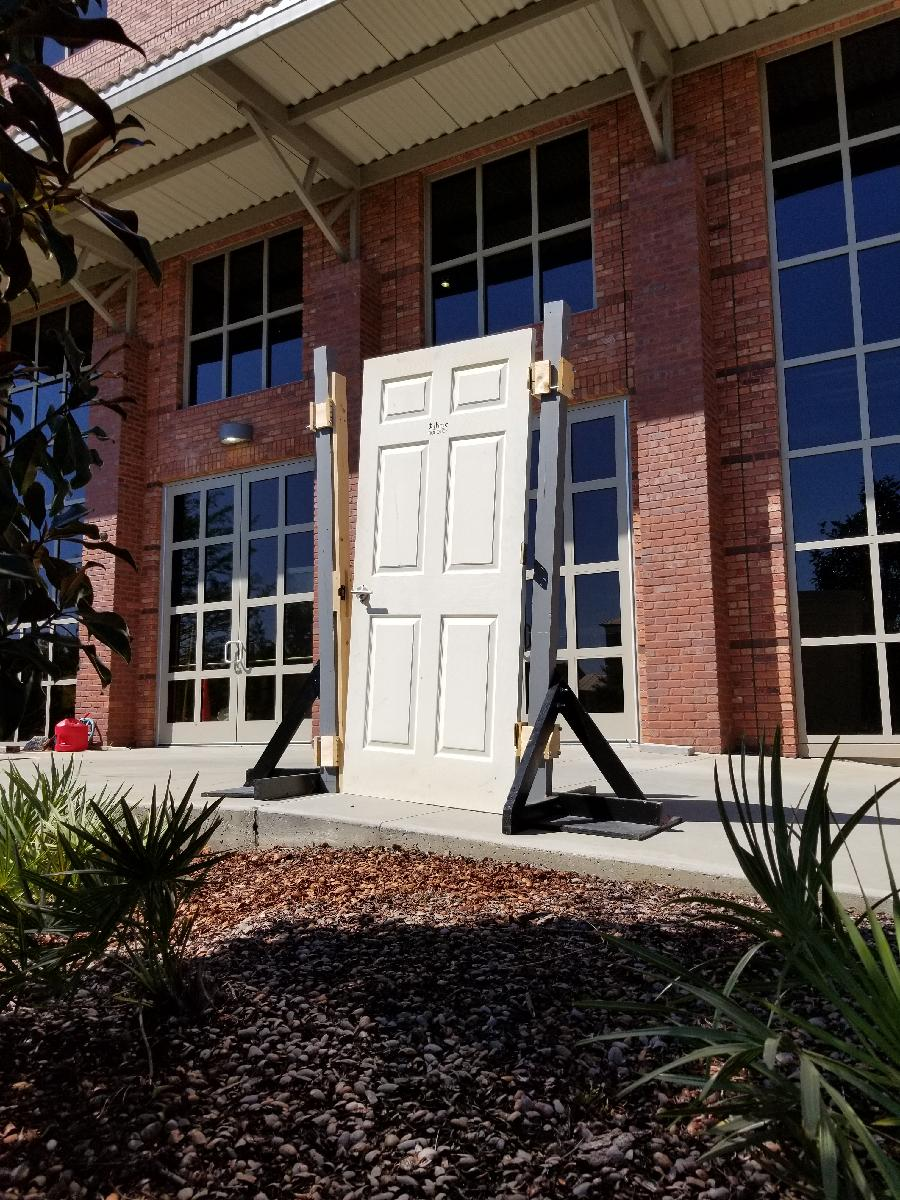door: (340, 326, 537, 821)
doorHandle: (350, 584, 373, 603)
